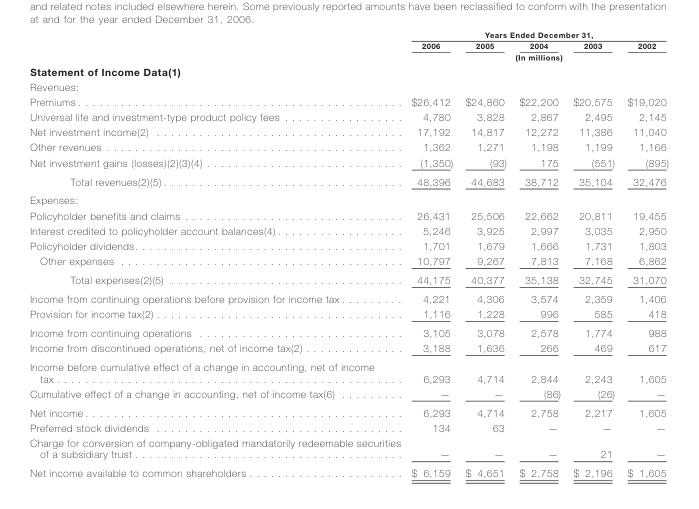table: (29, 29, 667, 478)
table column: (29, 29, 405, 478), (458, 29, 512, 478), (512, 29, 566, 478), (566, 29, 620, 478), (405, 29, 458, 478), (620, 29, 667, 478)
table column header: (29, 29, 667, 62)
table projected row header: (29, 190, 667, 207), (29, 62, 667, 78), (29, 78, 667, 93)
table row: (29, 434, 667, 463), (29, 357, 667, 385), (29, 171, 667, 190), (29, 252, 667, 270), (29, 270, 667, 288), (29, 288, 667, 306), (29, 154, 667, 171), (29, 190, 667, 207), (29, 306, 667, 323), (29, 323, 667, 340), (29, 340, 667, 357), (29, 385, 667, 402), (29, 402, 667, 419), (29, 62, 667, 78), (29, 93, 667, 109), (29, 78, 667, 93), (29, 109, 667, 124), (29, 124, 667, 139), (29, 139, 667, 154), (29, 207, 667, 222), (29, 222, 667, 237), (29, 237, 667, 252), (29, 419, 667, 434), (29, 463, 667, 478), (29, 50, 667, 62), (29, 39, 667, 50), (29, 29, 667, 39)
table spanning cell: (405, 50, 667, 62), (405, 29, 667, 39)
